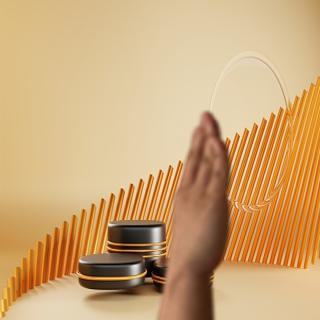RIGHT: (162, 105, 235, 285)
